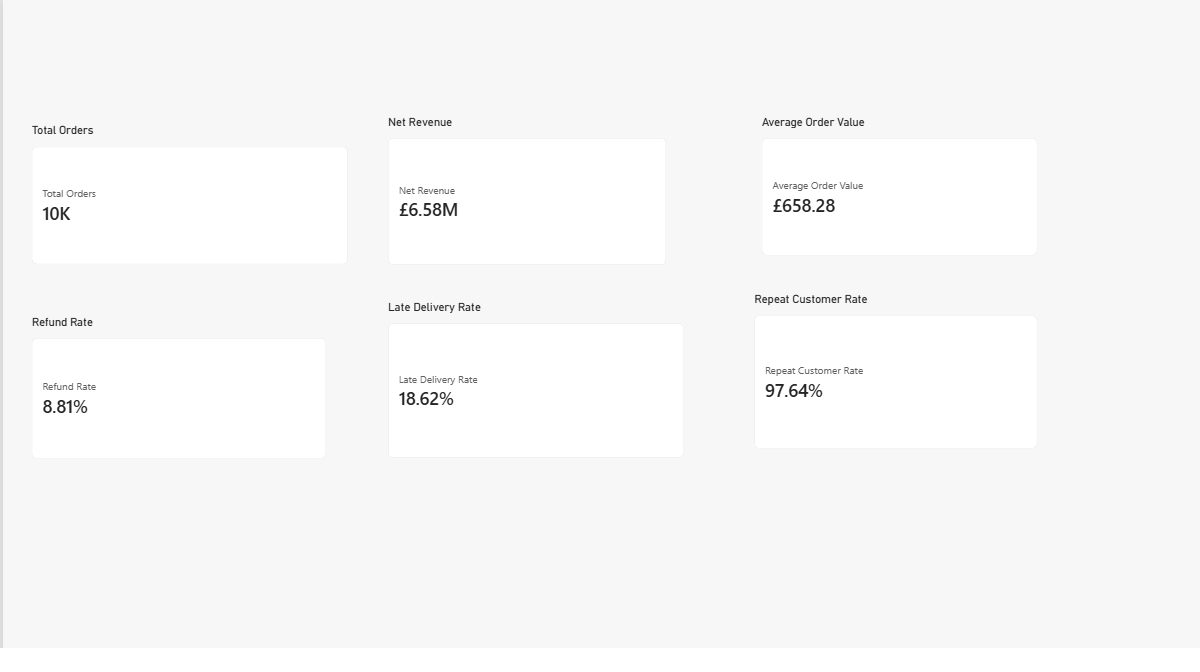

This screenshot's page, from the dashboard's own definition file:
{"tool":"powerbi","page":{"name":"Executive Overview","canvas":[1920,1080],"ordinal":0},"visuals":[{"type":"cardVisual","title":"Total Orders","fields":{"Data":["orders.Total Orders"]},"box":[46.7,198.3,506.7,225],"z":0},{"type":"cardVisual","title":"Net Revenue","fields":{"Data":["customers.Net Revenue"]},"box":[615,183.3,445,240],"z":1},{"type":"cardVisual","title":"Average Order Value","fields":{"Data":["customers.Average Order Value"]},"box":[1213.3,183.3,441.7,225],"z":2},{"type":"cardVisual","title":"Refund Rate","fields":{"Data":["customers.Refund Rate"]},"box":[46.7,503.3,471.7,230],"z":3},{"type":"cardVisual","title":"Late Delivery Rate","fields":{"Data":["customers.Late Delivery Rate"]},"box":[615,480,473.3,253.3],"z":4},{"type":"cardVisual","title":"Repeat Customer Rate","fields":{"Data":["Customer Orders.Repeat Customer Rate"]},"box":[1201.7,468.3,453.3,250],"z":5}]}

Visuals, with their boxes in screenshot pixels (x1, y1, x2, y2), scaled from the page's 1920x1080 canvas onto the 1200x672 screenshot:
"Total Orders" cardVisual: <bbox>29, 123, 346, 263</bbox>
"Net Revenue" cardVisual: <bbox>384, 114, 662, 263</bbox>
"Average Order Value" cardVisual: <bbox>758, 114, 1034, 254</bbox>
"Refund Rate" cardVisual: <bbox>29, 313, 324, 456</bbox>
"Late Delivery Rate" cardVisual: <bbox>384, 299, 680, 456</bbox>
"Repeat Customer Rate" cardVisual: <bbox>751, 291, 1034, 447</bbox>
